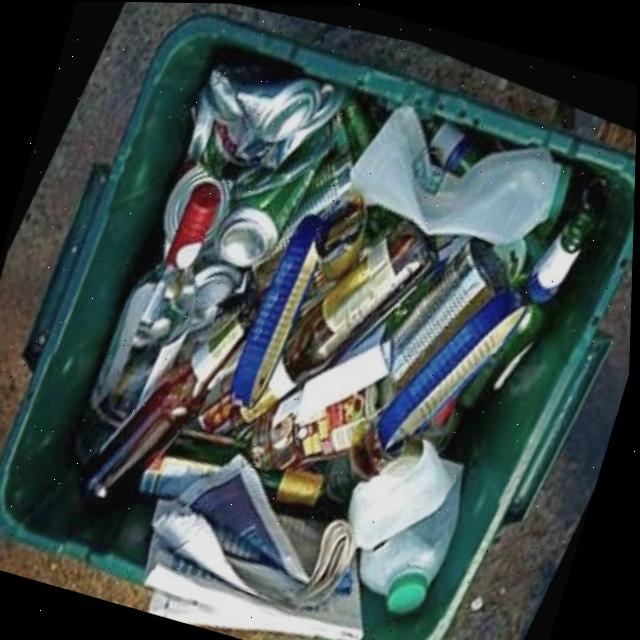Garbage: (81, 46, 608, 635)
Glass_bottle: (201, 213, 439, 430), (441, 172, 609, 442), (81, 170, 225, 451), (86, 288, 255, 488), (142, 426, 240, 488), (424, 109, 497, 169), (263, 460, 327, 499), (327, 448, 361, 496)
Plastic: (382, 285, 528, 441), (236, 208, 326, 399)
Plastic_bottle: (353, 97, 572, 238), (351, 435, 464, 607)
can: (384, 231, 528, 400), (191, 50, 347, 159), (257, 147, 370, 290), (252, 374, 395, 462), (202, 112, 335, 195), (202, 112, 335, 194), (221, 151, 322, 258), (167, 154, 235, 247), (182, 236, 253, 321), (334, 85, 377, 154), (351, 419, 394, 474)
